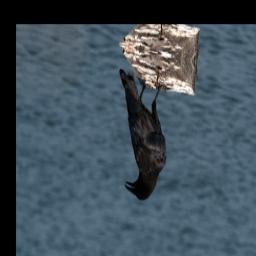Crow: (109, 65, 173, 206)
